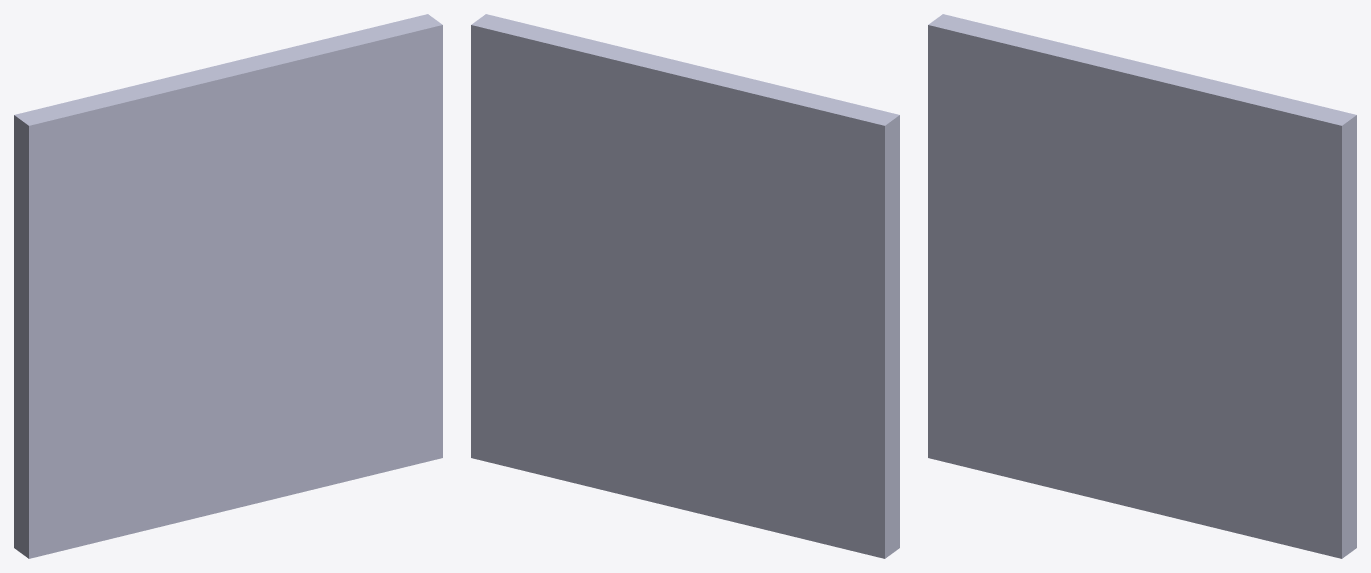
3 renders of one model, left to right at view 1: azimuth 30°, elevation 25°; view 2: azimuth 150°, elevation 25°; view 3: azimuth 330°, elevation 25°, orthographic.
Size of the model in its own units: 16 by 16 by 1.
